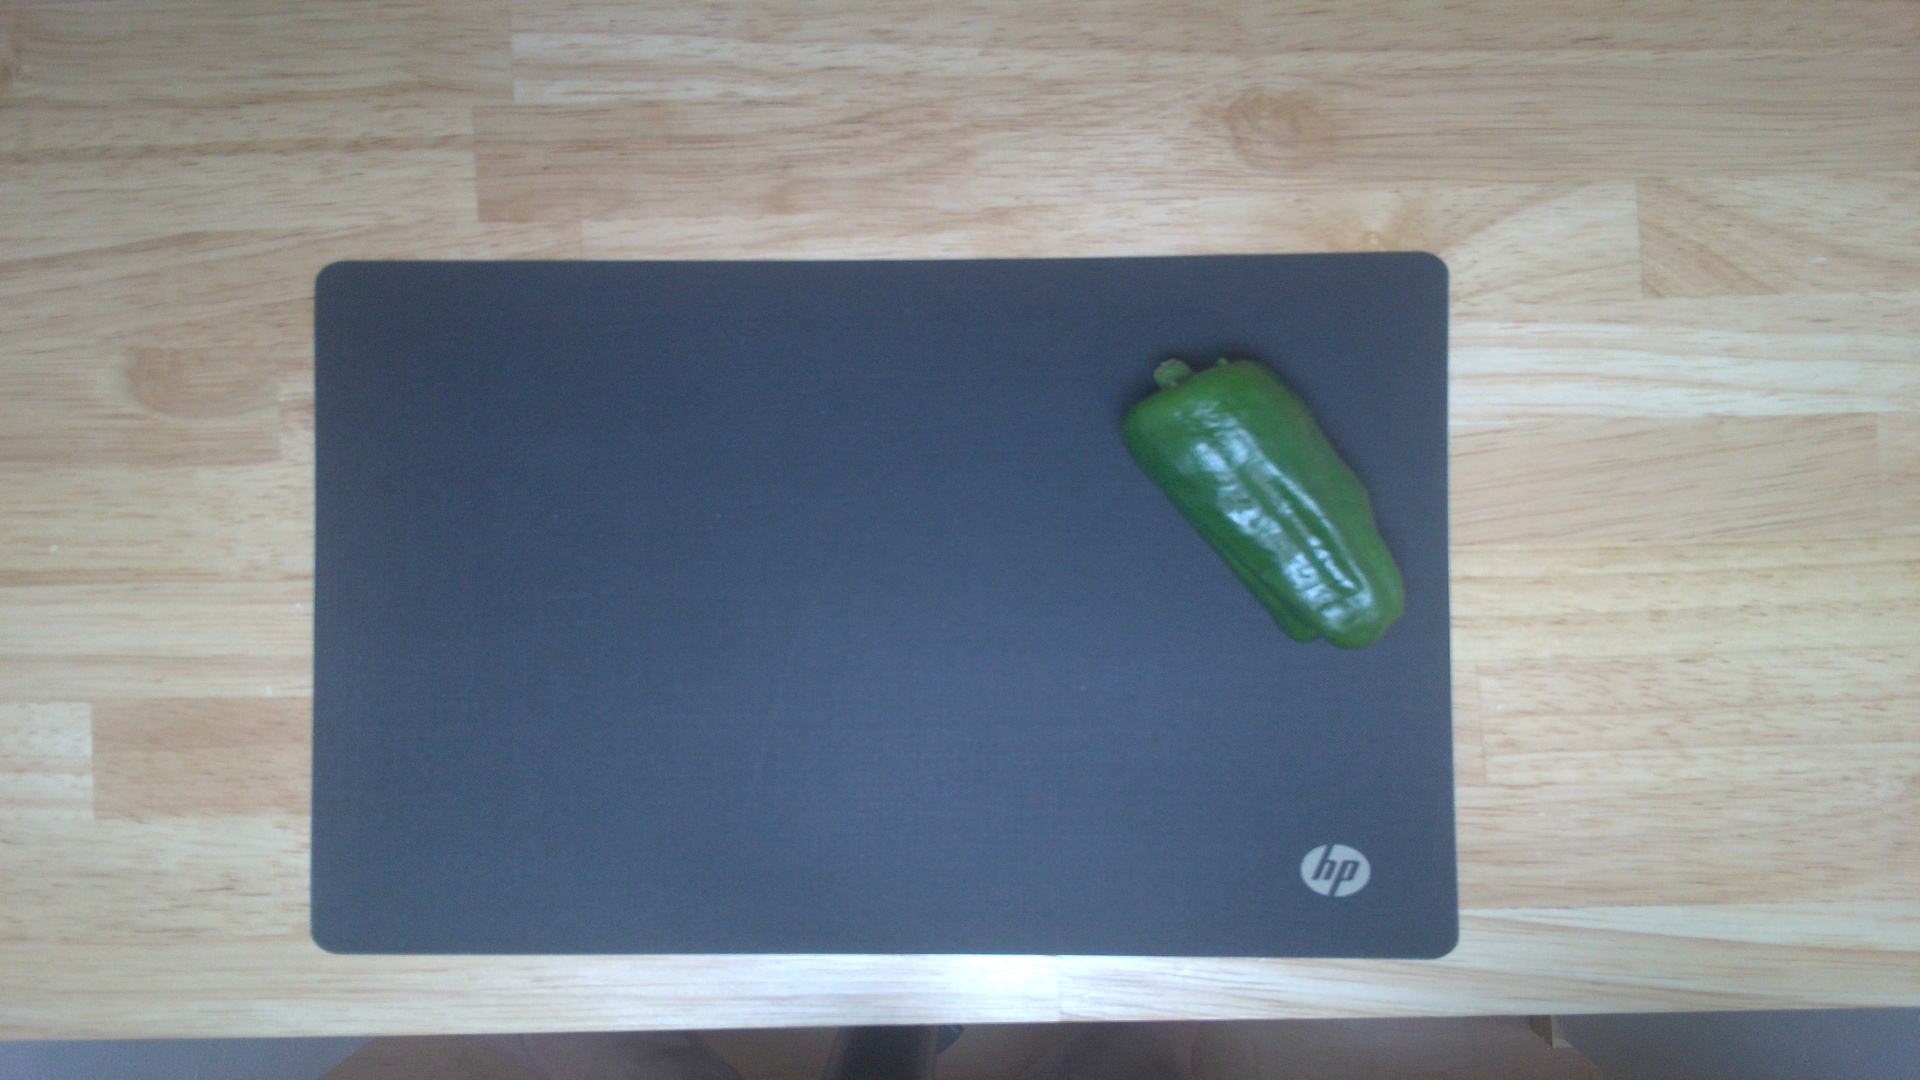Piman: (1112, 349, 1414, 657)
